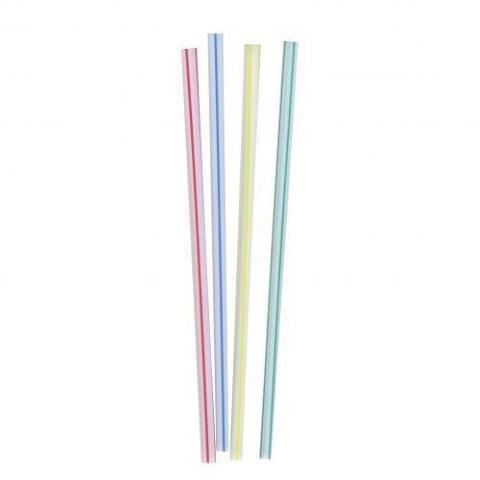sedotan: (259, 43, 296, 458), (184, 48, 216, 462), (230, 47, 260, 460), (207, 34, 228, 451)
